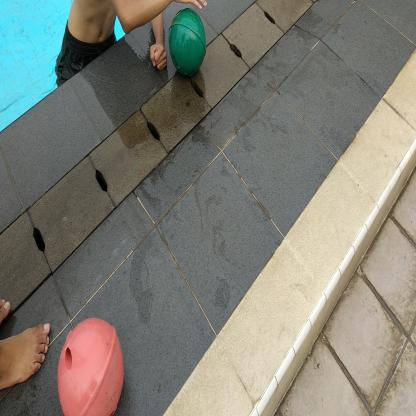green_buoy: (167, 5, 209, 80)
red_buoy: (54, 318, 127, 412)
